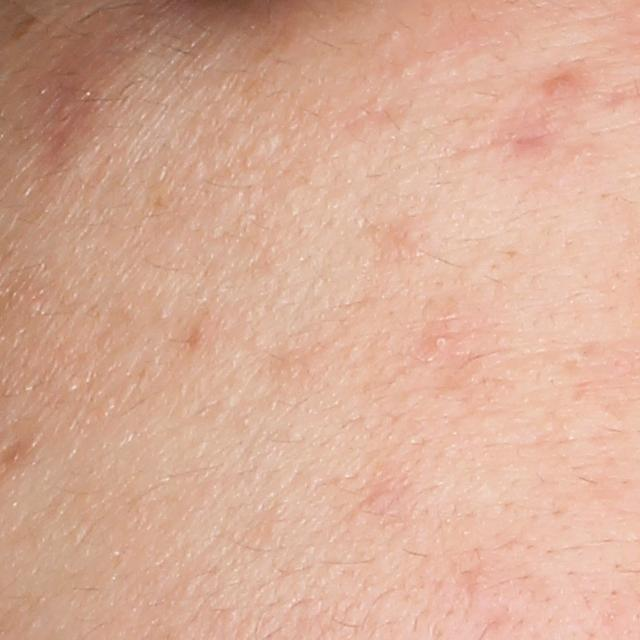comedo: (431, 336, 451, 350)
papule: (545, 76, 576, 98)
